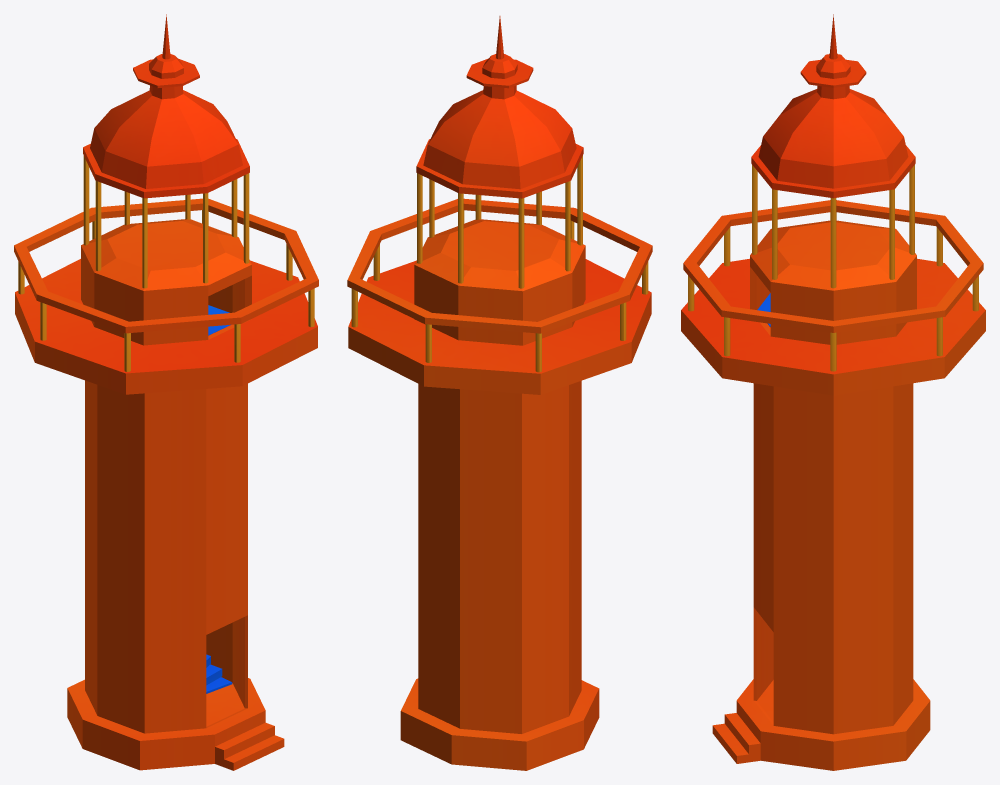
The model's file is Light_House.fbx.
3 views of the same model, side by side, from view 1: azimuth 30°, elevation 25°; view 2: azimuth 150°, elevation 25°; view 3: azimuth 270°, elevation 25° (orthographic).
Parts seen in each view (by area): view 1: Light_House; view 2: Light_House; view 3: Light_House.
Boxes of the visible parts, bbox=[...] form: Light_House: bbox=[14, 14, 318, 770]; Light_House: bbox=[347, 16, 652, 770]; Light_House: bbox=[681, 14, 985, 770].
Size of the model in its own units: 1374 by 3564 by 1374.
1 material, 1 textured.
